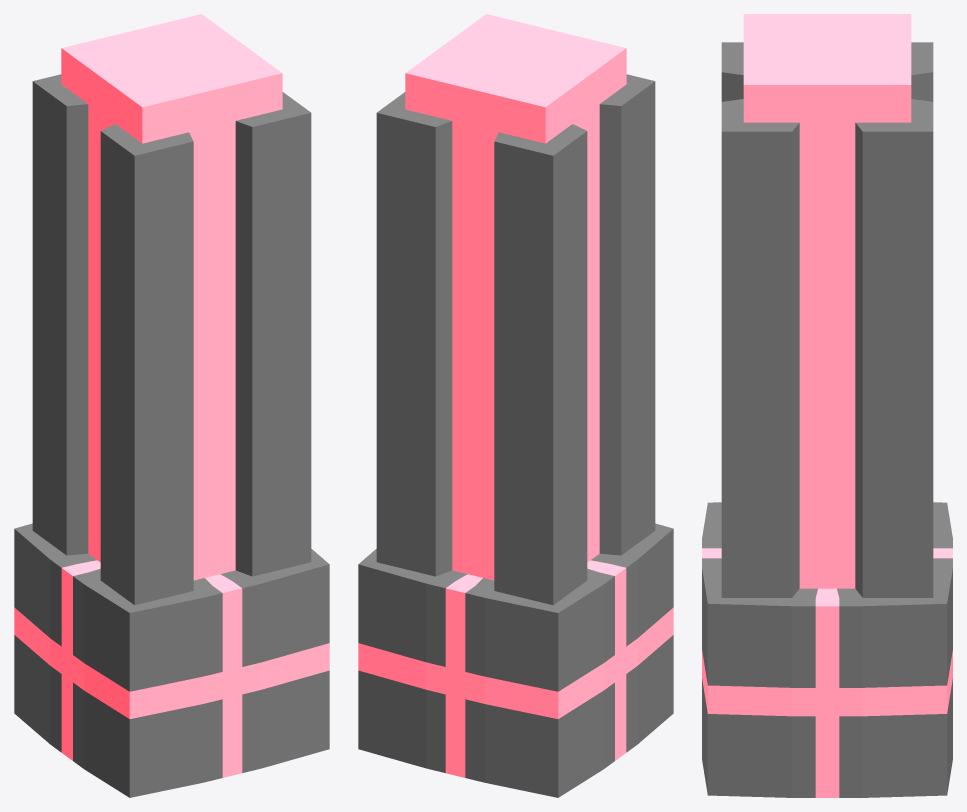
The model's file is BossBeacon.fbx.
3 renders of one model, left to right at view 1: azimuth 30°, elevation 25°; view 2: azimuth 150°, elevation 25°; view 3: azimuth 270°, elevation 25°, orthographic. The views are drawn at different scales.
Visible parts, largest first — view 1: Cube; view 2: Cube; view 3: Cube.
Boxes of the visible parts, x1,y1,x2,y2 form: Cube: (14, 14, 329, 797); Cube: (358, 14, 673, 797); Cube: (702, 14, 952, 797).
Bounding box in the file's own units: 237 × 725 × 237.
